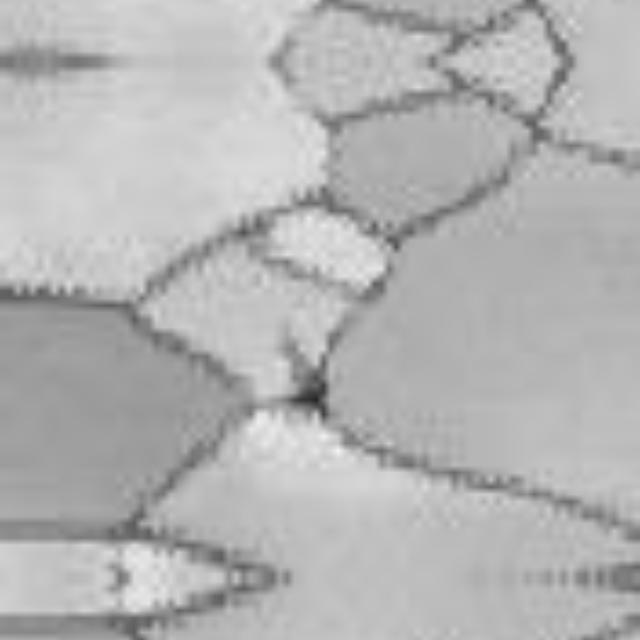good_void: (279, 329, 341, 426)
